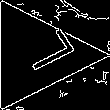L_SW: (3, 29, 71, 81)
